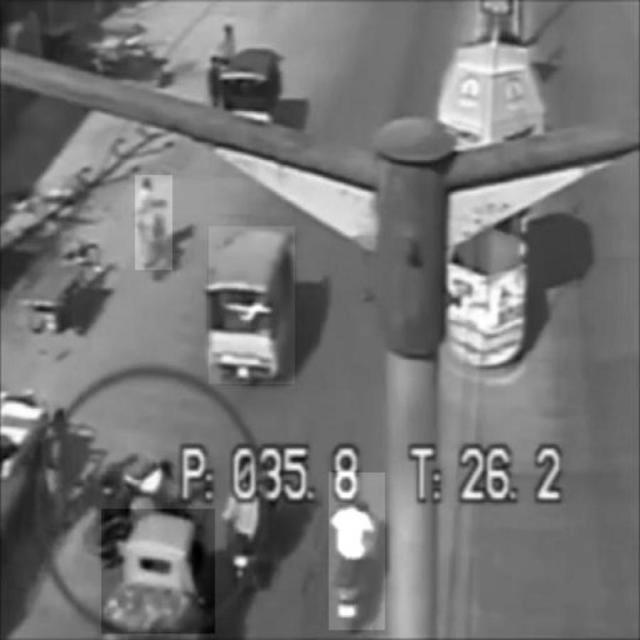vehicle: (102, 509, 215, 633), (209, 227, 295, 384), (329, 473, 385, 630), (134, 175, 172, 269)
